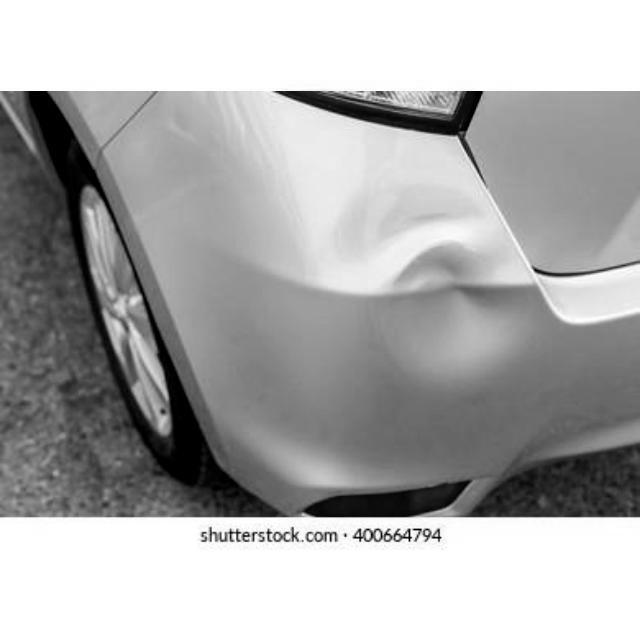rear-bumper-dent: (176, 189, 638, 513)
